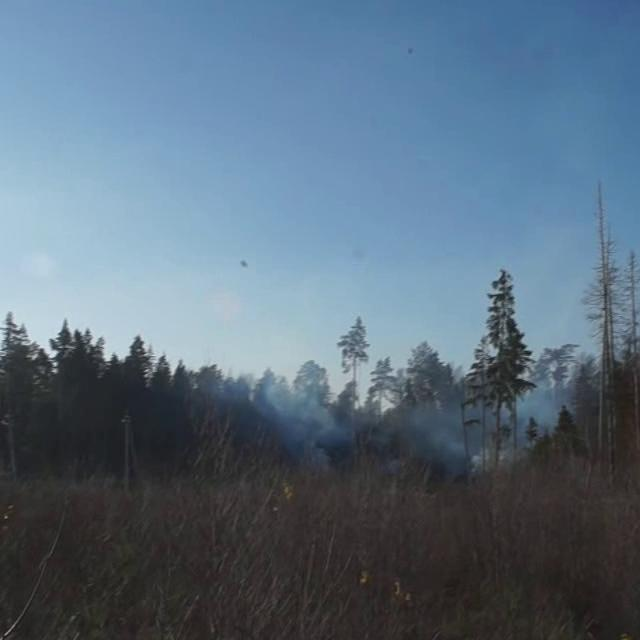Smoke: (222, 352, 588, 486)
